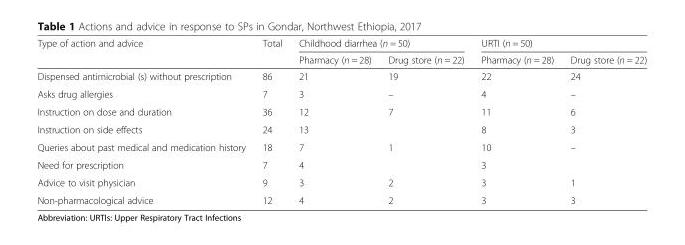table: (36, 37, 646, 205)
table column: (36, 37, 253, 205), (379, 37, 472, 205), (289, 37, 379, 205), (472, 37, 561, 205), (561, 37, 646, 205), (253, 37, 289, 205)
table column header: (36, 37, 646, 67)
table row: (36, 84, 646, 102), (36, 102, 646, 120), (36, 137, 646, 155), (36, 155, 646, 173), (36, 173, 646, 191), (36, 67, 646, 84), (36, 120, 646, 137), (36, 51, 646, 67), (36, 37, 646, 51), (36, 191, 646, 205)
table spanning cell: (36, 37, 253, 67), (289, 37, 472, 51), (472, 37, 646, 51), (253, 37, 289, 67)
